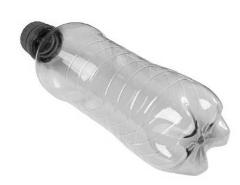plastic: (20, 21, 230, 176)
